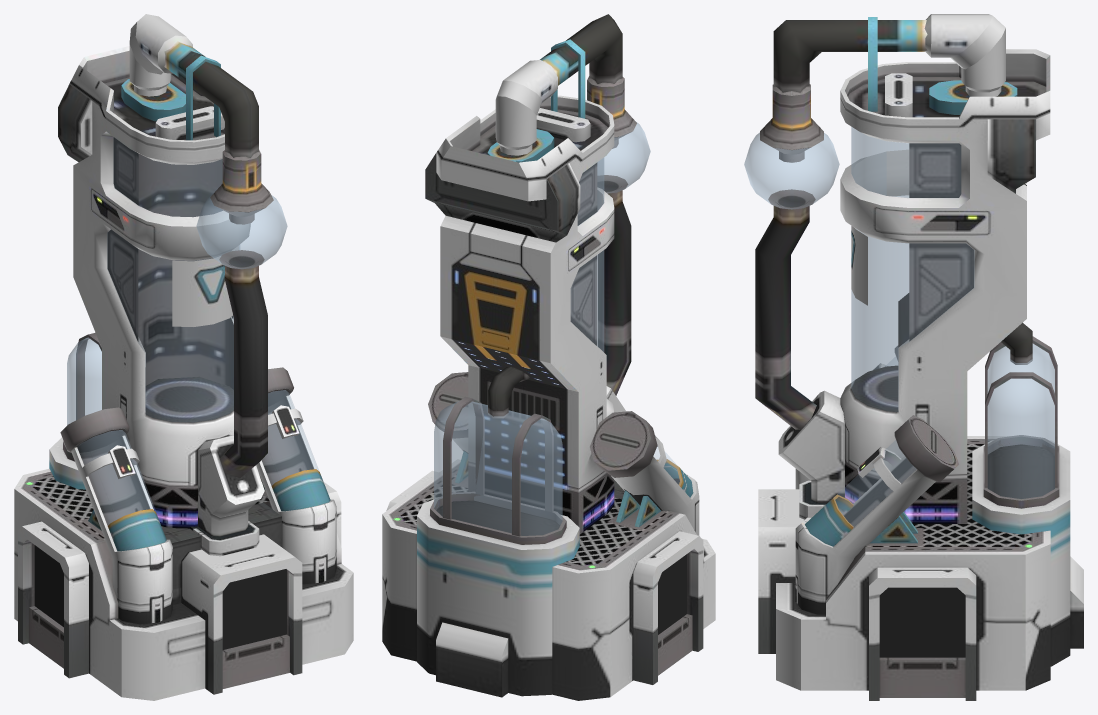
3 views of the same model, side by side, from view 1: azimuth 30°, elevation 25°; view 2: azimuth 150°, elevation 25°; view 3: azimuth 270°, elevation 25° (orthographic). The views are drawn at different scales.
Parts seen in each view (by area): view 1: fractionator; view 2: fractionator; view 3: fractionator.
Part boxes in pixels (x1,y1,x2,y2): fractionator: (14, 14, 353, 700); fractionator: (382, 14, 715, 700); fractionator: (744, 14, 1083, 700).
Size of the model in its own units: 4.6 by 9.5 by 4.75.
4 materials, 1 textured.
